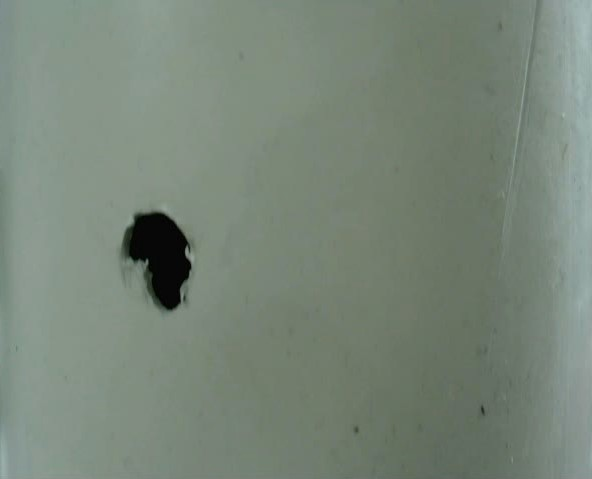kongdong: (114, 199, 199, 320)
sunshang: (473, 1, 557, 264)
